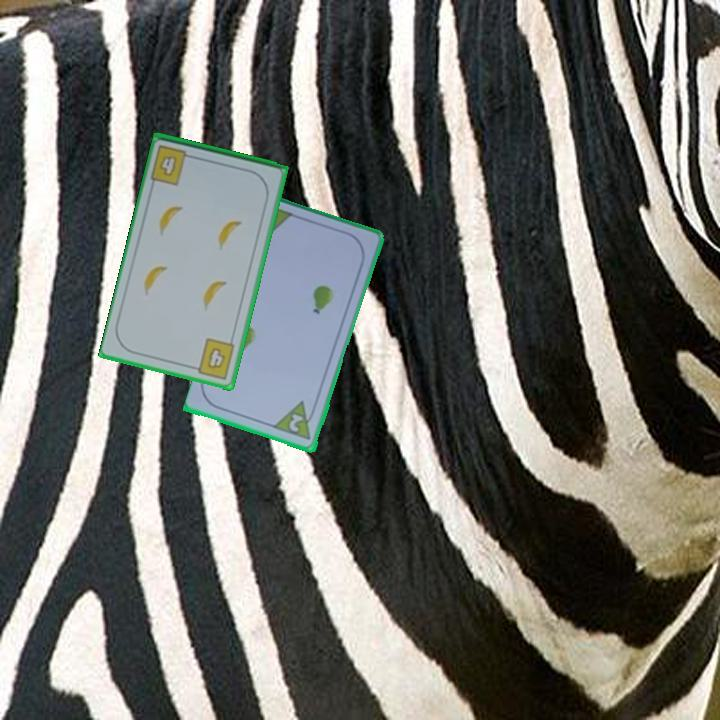2p: (285, 410, 306, 435)
4b: (188, 334, 238, 382), (147, 142, 198, 188)
